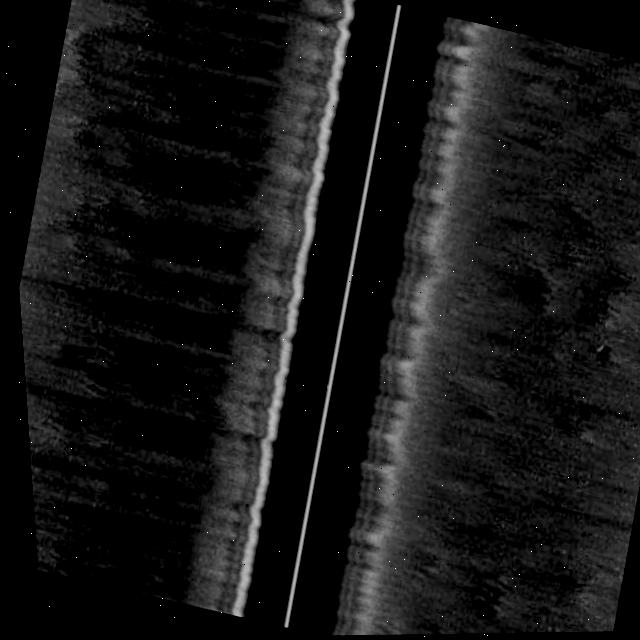mine: (587, 343, 606, 359)
